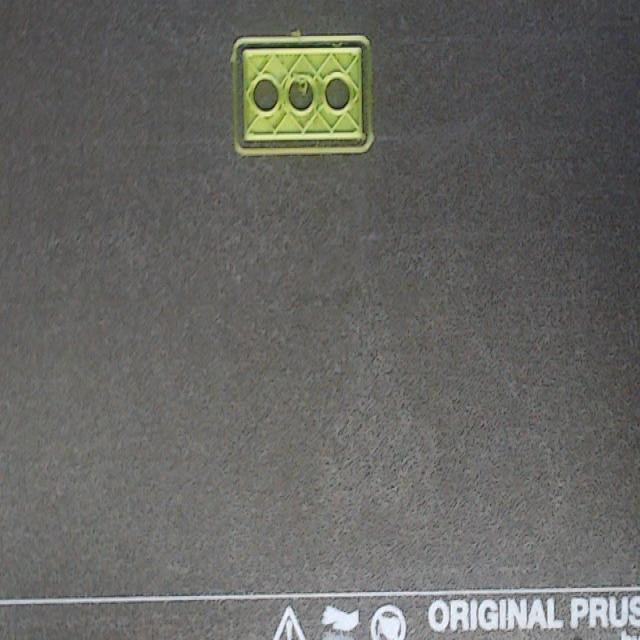mistake: (290, 79, 311, 100), (289, 29, 302, 36)
